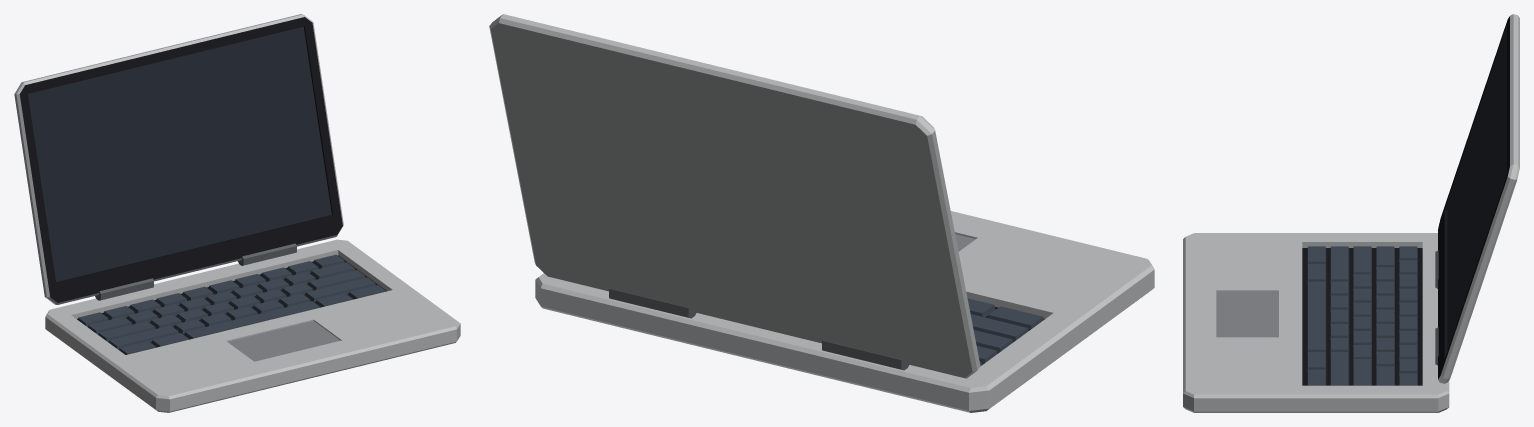
Rendered from laptop.glb.
The picture shows the model from 3 angles, left to right: view 1: azimuth 30°, elevation 25°; view 2: azimuth 150°, elevation 25°; view 3: azimuth 270°, elevation 25°; orthographic projection. The views are drawn at different scales.
Parts seen in each view (by area): view 1: lid, laptop; view 2: lid, laptop; view 3: laptop, lid.
Part boxes in pixels (x1,y1,x2,y2): lid: [14, 14, 343, 304]; laptop: [45, 239, 460, 412]; lid: [489, 14, 980, 378]; laptop: [535, 211, 1154, 412]; laptop: [1183, 233, 1449, 412]; lid: [1438, 14, 1519, 383].
Bounding box in the file's own units: 0.32 × 0.223 × 0.2782.
